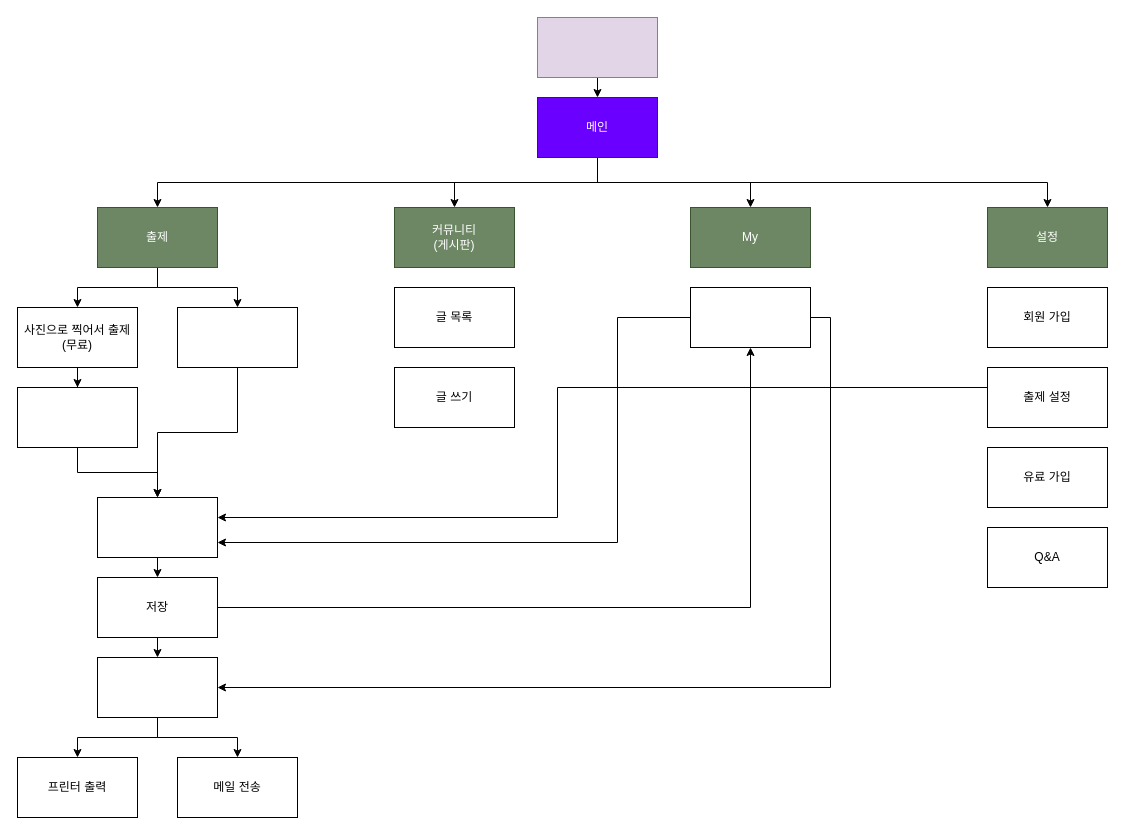
Some shapes in this 1125 by 835 pixel diagram are drawn without their labels. Each missing label, with the centre of its shape:
(OCR / NLP): point 77,417
기존 교재 출제 (유료): point 237,337
문제 생성 / 편집: point 157,527
온보딩: point 597,47
저장 목록: point 750,317
출력 및 공유: point 157,687
